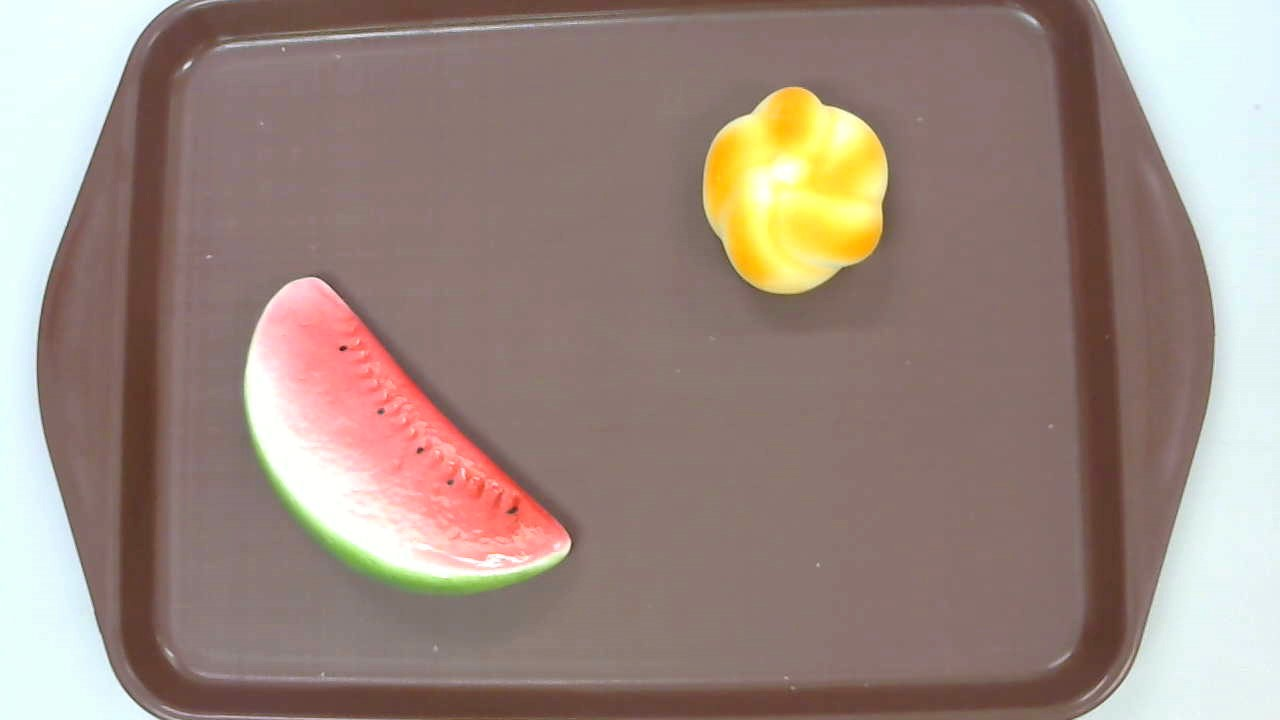twist bread: (703, 87, 889, 294)
watermelon: (241, 277, 573, 597)
